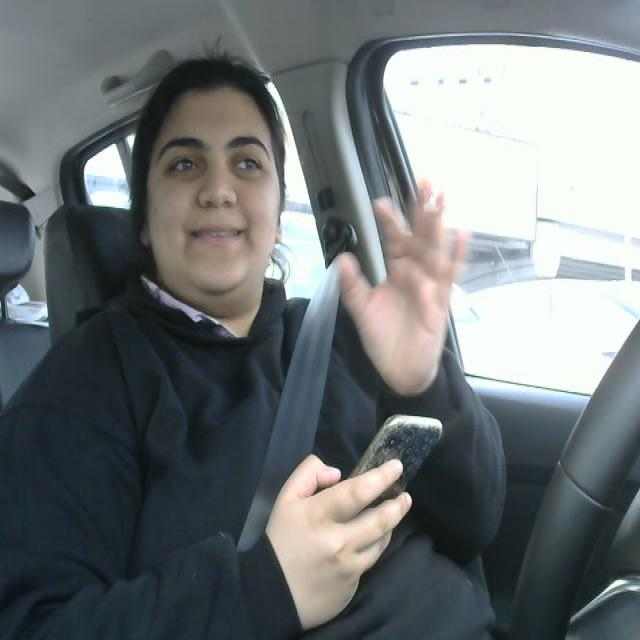mobile use: (339, 410, 445, 519)
